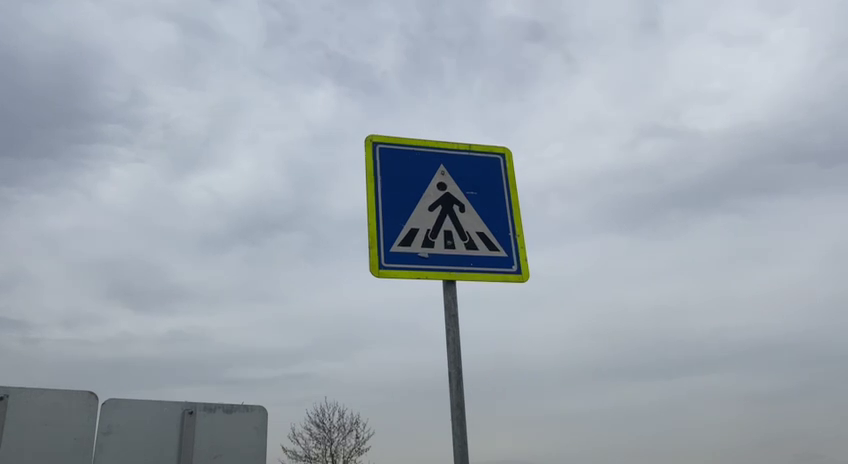pedestrianCrossing: (362, 132, 531, 287)
